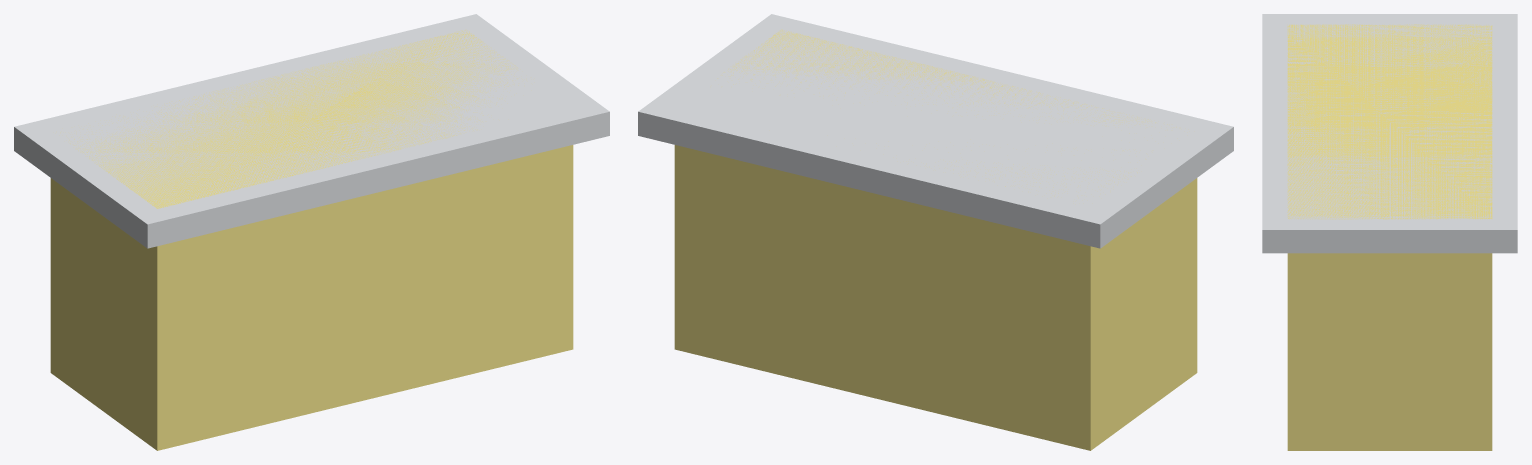
The model's file is Toy_PicnicTable.fbx.
3 views of the same model, side by side, from view 1: azimuth 30°, elevation 25°; view 2: azimuth 150°, elevation 25°; view 3: azimuth 270°, elevation 25° (orthographic). The views are drawn at different scales.
Visible parts, largest first — view 1: Toy_PicnicTable; view 2: Toy_PicnicTable; view 3: Toy_PicnicTable.
Boxes of the visible parts, x1,y1,x2,y2 form: Toy_PicnicTable: [14, 14, 609, 450]; Toy_PicnicTable: [638, 14, 1233, 450]; Toy_PicnicTable: [1262, 14, 1517, 450].
Size of the model in its own units: 2 by 1 by 1.
